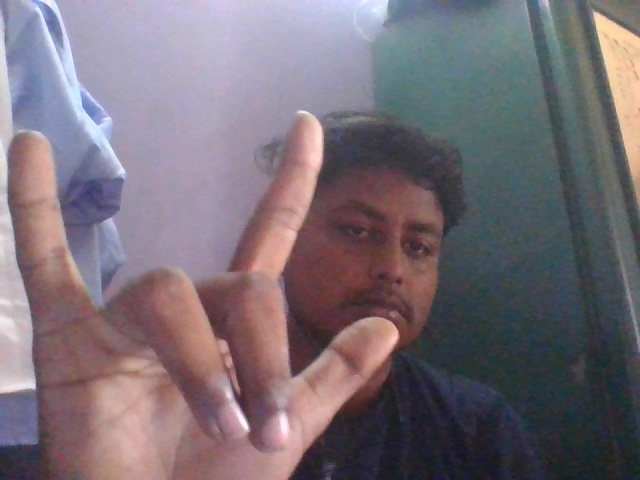iloveyou: (2, 117, 404, 480)
